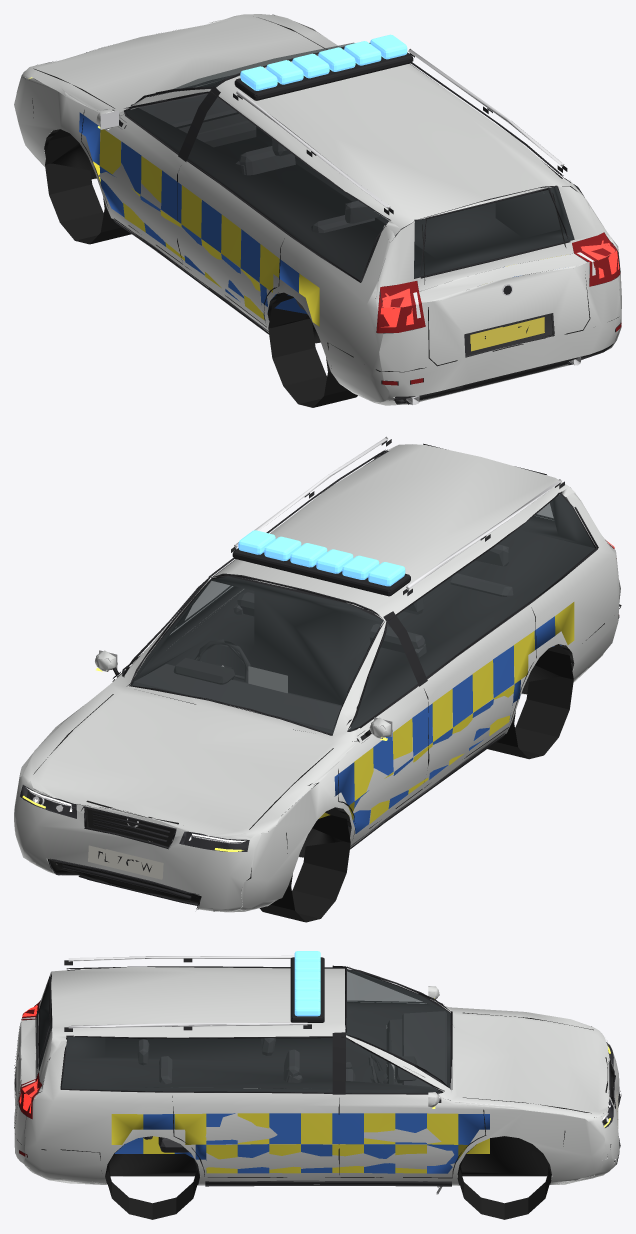
File: civ_police_traffic.glb
The picture shows the model from 3 angles, top to bottom: view 1: azimuth 30°, elevation 25°; view 2: azimuth 150°, elevation 25°; view 3: azimuth 270°, elevation 25°; orthographic projection. The views are drawn at different scales.
Parts seen in each view (by area): view 1: civ_police; view 2: civ_police; view 3: civ_police.
Boxes of the visible parts, x1,y1,x2,y2 form: civ_police: (14,14,621,407); civ_police: (14,436,621,922); civ_police: (14,951,621,1219).
Bounding box in the file's own units: 2.05 × 1.62 × 4.63.
